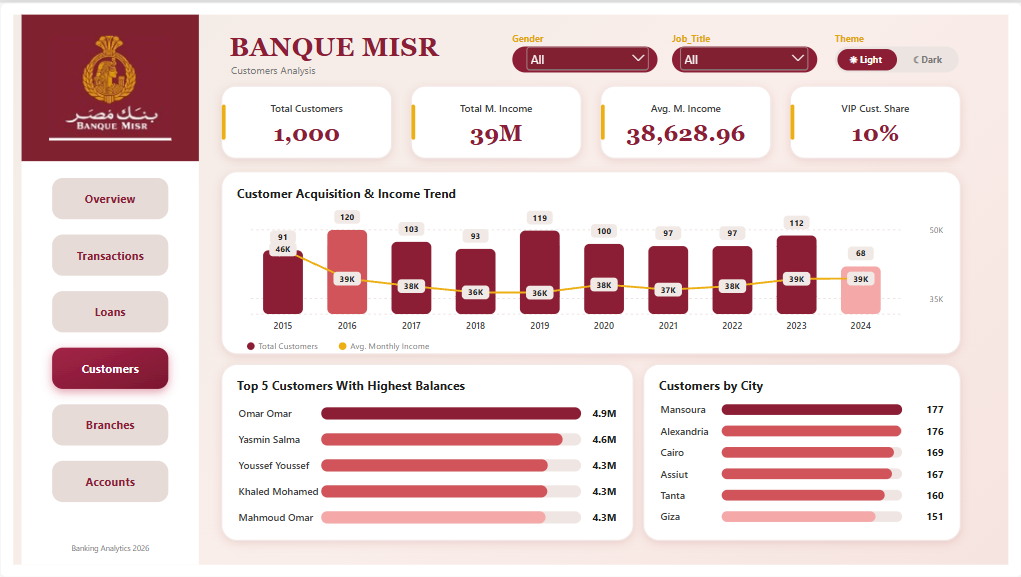

What the dashboard file says about the page in this screenshot:
{"tool":"powerbi","page":{"name":"Customers HTML","canvas":[1280,720],"ordinal":4},"visuals":[{"type":"htmlContent443BE3AD55E043BF878BED274D3A6855","fields":{"content":["DAX.HTML Customers"]},"box":[0,0,1279.6,720.4],"z":0},{"type":"slicer","fields":{"Values":["Customers Dim.Gender"]},"box":[653.7,50,163,37],"z":1000},{"type":"slicer","fields":{"Values":["Customers Dim.Job_Title"]},"box":[846.3,50,170.4,37],"z":2000},{"type":"actionButton","box":[64.8,288.9,150,53.7],"z":3000},{"type":"actionButton","box":[66.7,214.8,150,53.7],"z":4000},{"type":"actionButton","box":[64.8,361.1,150,53.7],"z":5000},{"type":"actionButton","box":[66.7,500,150,53.7],"z":6000},{"type":"actionButton","box":[64.8,570.4,150,53.7],"z":7000},{"type":"actionButton","box":[25.9,14.8,229.4,178.4],"z":8000}]}

Visuals, with their boxes in screenshot pixels (x1, y1, x2, y2), scaled from the page's 1280x720 canvas onto the 1021x577 screenshot:
htmlContent443BE3AD55E043BF878BED274D3A6855 - DAX.HTML Customers: (0, 0, 1020, 576)
slicer - Customers Dim.Gender: (521, 40, 651, 70)
slicer - Customers Dim.Job_Title: (675, 40, 811, 70)
actionButton: (52, 232, 171, 275)
actionButton: (53, 172, 173, 215)
actionButton: (52, 289, 171, 332)
actionButton: (53, 401, 173, 444)
actionButton: (52, 457, 171, 500)
actionButton: (21, 12, 204, 155)
